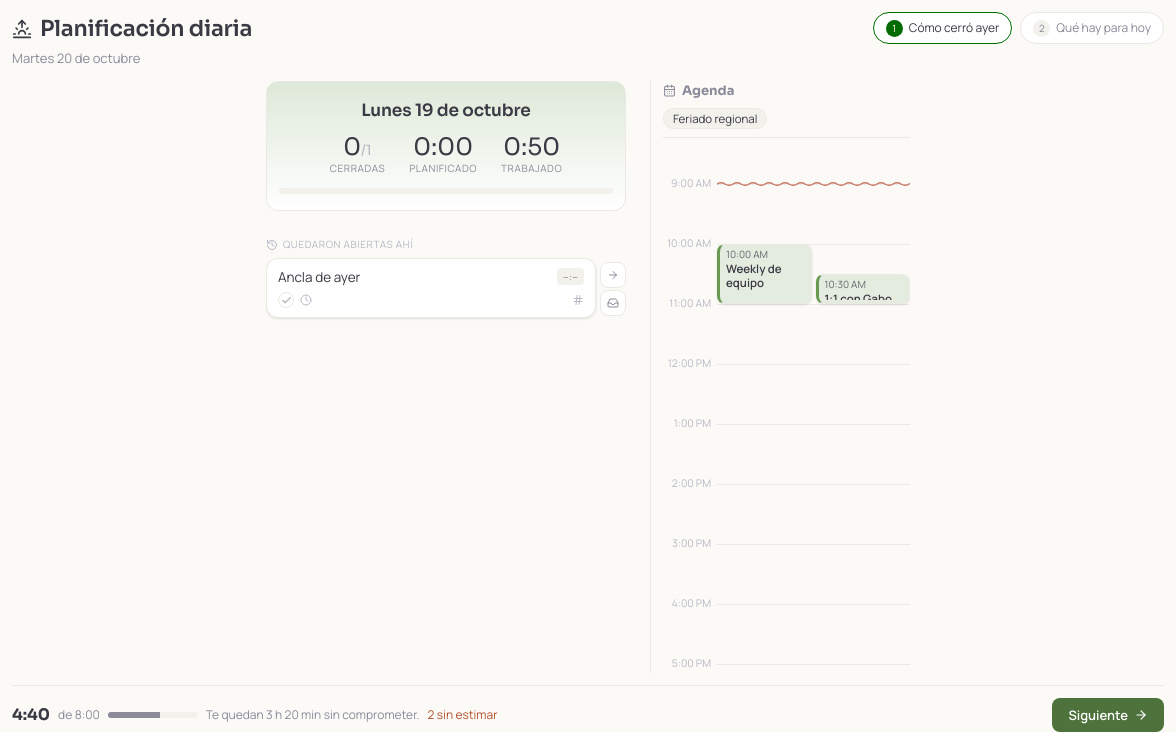
Test: DailyPlanningView › lo pendiente de días anteriores al repasado ya está en el backlog
This screenshot has width=1176, height=732.
(page scrolled)
Click the button "2 Qué hay para hoy": click(1092, 28) [1020,12,1164,44]
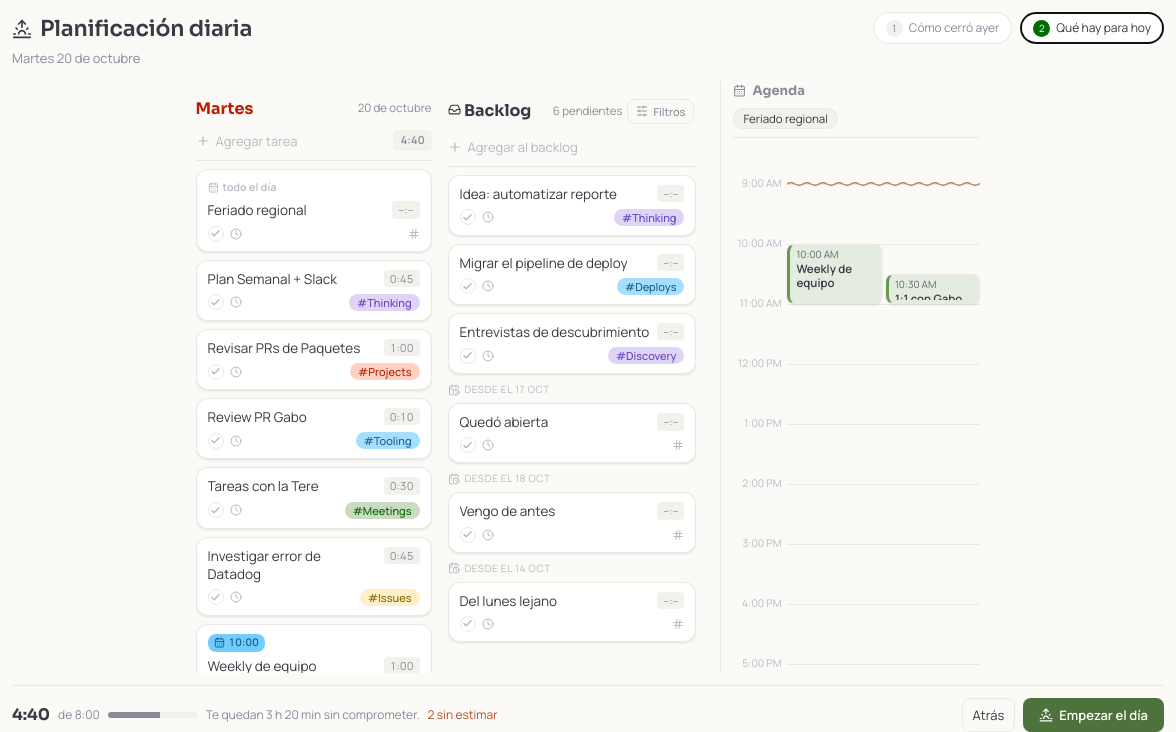
Expected: the text "Del lunes lejano" is shown, [460,592,557,610]
